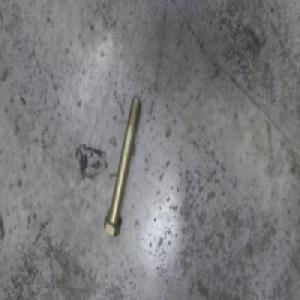Bolt: (102, 101, 143, 242)
